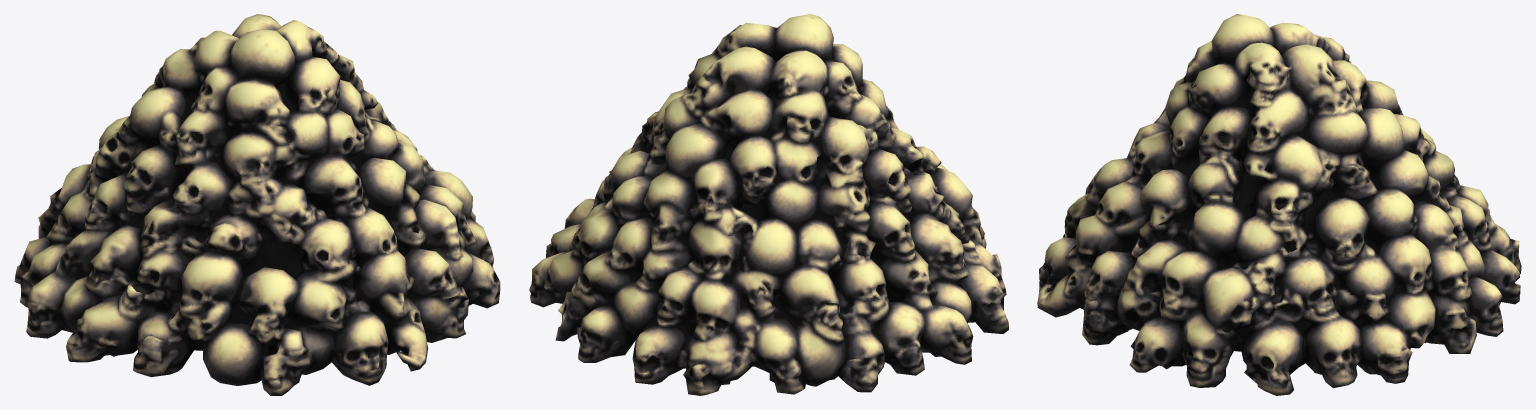
The model's file is mm6_deco_skullpile_meshy.glb.
The picture shows the model from 3 angles, left to right: view 1: azimuth 30°, elevation 25°; view 2: azimuth 150°, elevation 25°; view 3: azimuth 270°, elevation 25°; orthographic projection. The views are drawn at different scales.
Visible parts, largest first — view 1: SkullPile; view 2: SkullPile; view 3: SkullPile.
Boxes of the visible parts, x1,y1,x2,y2 form: SkullPile: (14, 14, 500, 395); SkullPile: (529, 14, 1008, 395); SkullPile: (1037, 14, 1521, 395).
Size of the model in its own units: 3.01 by 1.87 by 2.99.
1 material, 1 textured.
